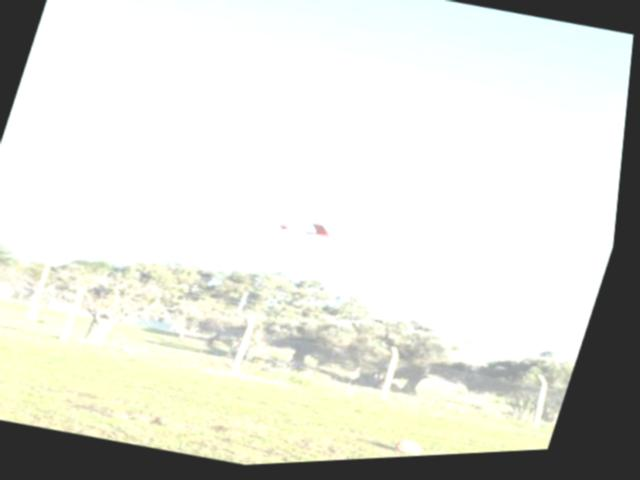iha: (276, 210, 361, 258)
